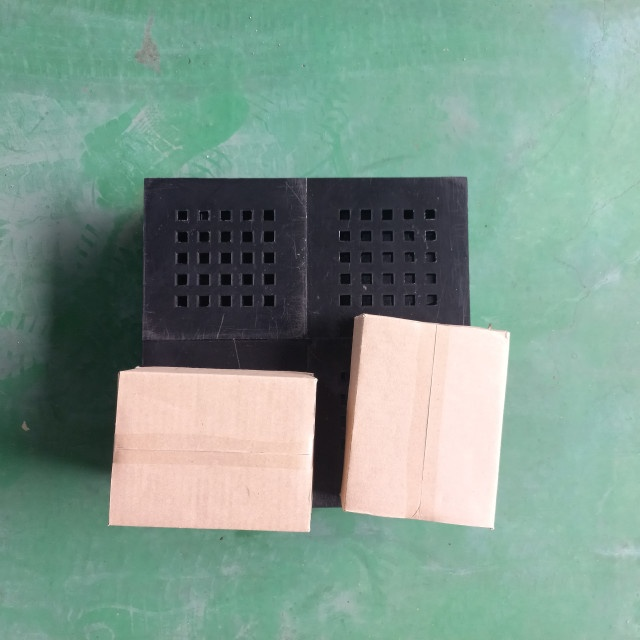box: (339, 309, 513, 532), (106, 364, 318, 534)
